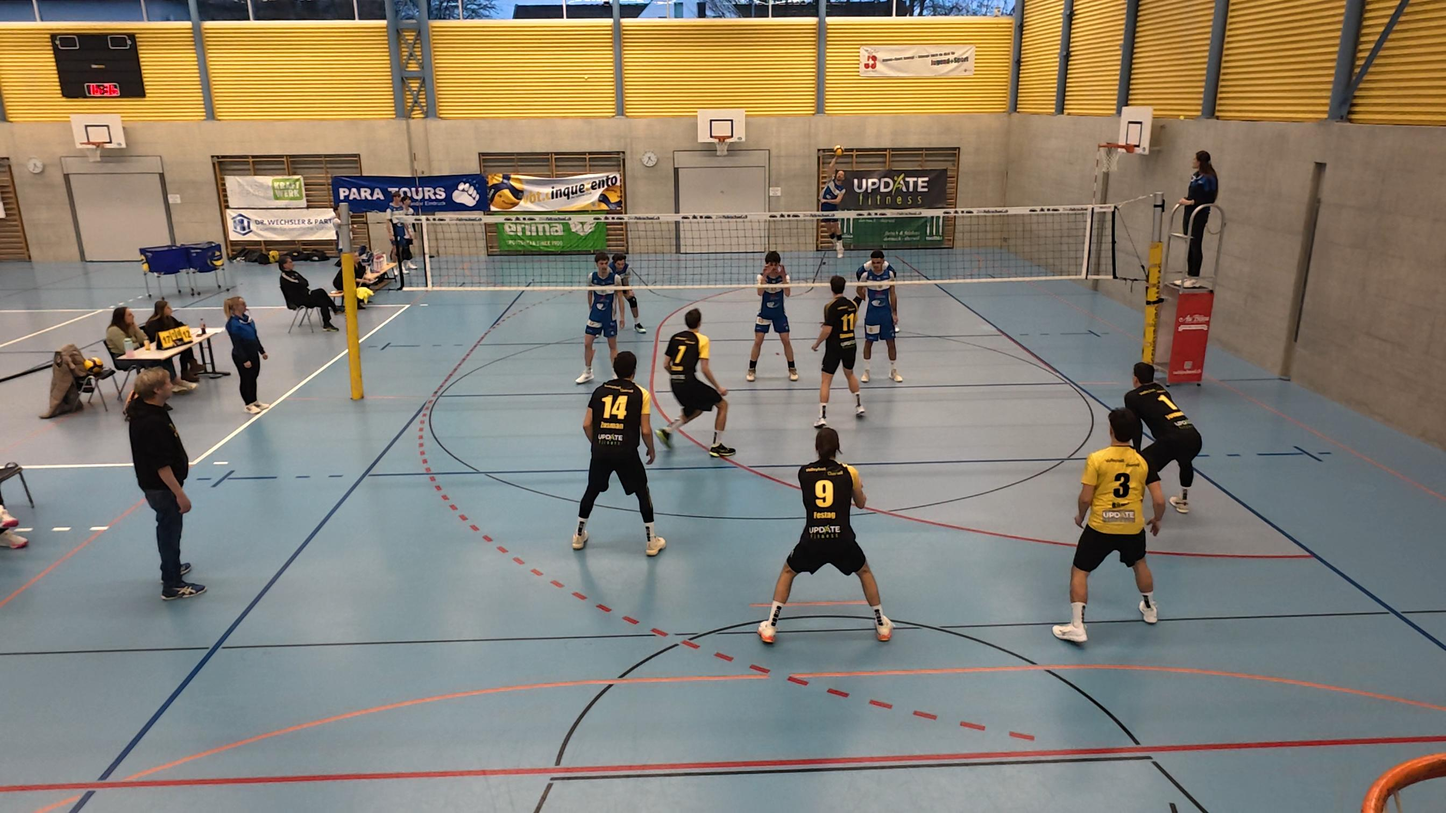battuta: (815, 149, 849, 275)
